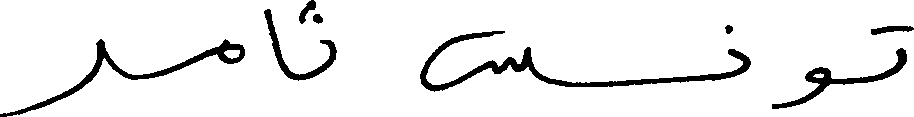ا: (262, 6, 290, 79)
ت: (866, 23, 912, 74)
ث: (296, 0, 336, 75)
ر: (0, 36, 105, 115)
س: (419, 29, 531, 93)
م: (216, 36, 244, 63)
ن: (727, 22, 751, 77)
و: (771, 64, 832, 108)
